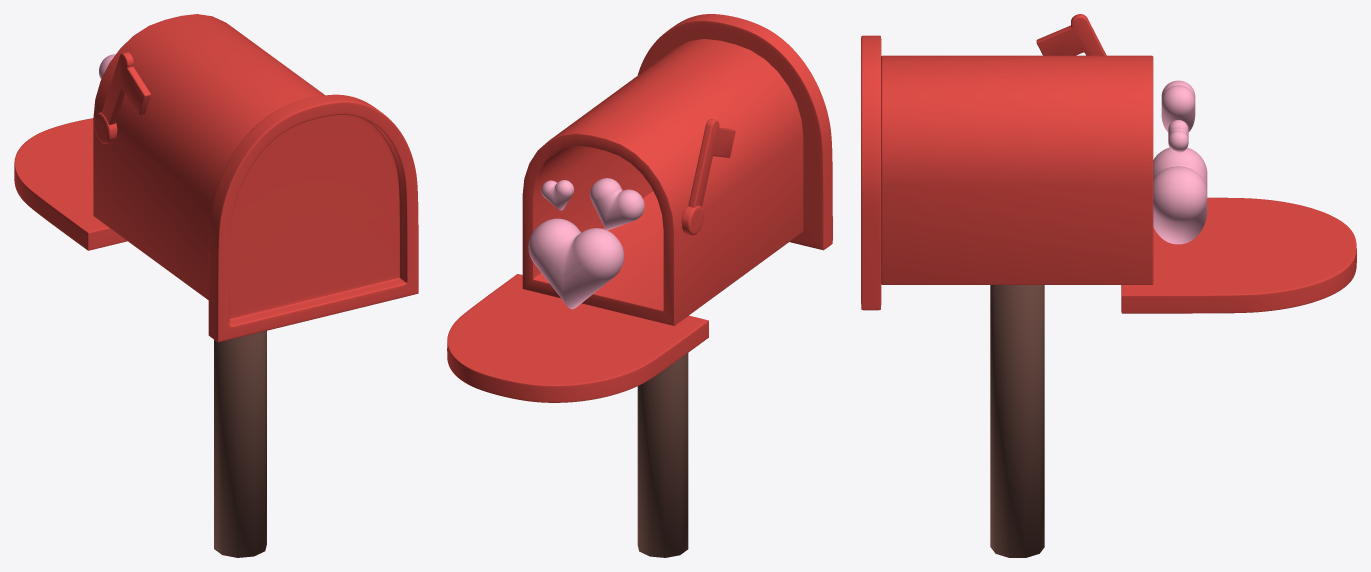
Rendered from Mailbox_open.glb.
The picture shows the model from 3 angles, left to right: view 1: azimuth 30°, elevation 25°; view 2: azimuth 150°, elevation 25°; view 3: azimuth 270°, elevation 25°; orthographic projection. The views are drawn at different scales.
Visible parts, largest first — view 1: Cylinder.263; view 2: Cylinder.263, heart.002; view 3: Cylinder.263, heart.002.
Boxes of the visible parts, x1,y1,x2,y2 form: Cylinder.263: (14, 14, 418, 557); Cylinder.263: (447, 14, 832, 557); heart.002: (528, 178, 644, 309); Cylinder.263: (861, 14, 1356, 557); heart.002: (1153, 80, 1207, 244).
Size of the model in its own units: 1.71 by 4.05 by 3.65.
